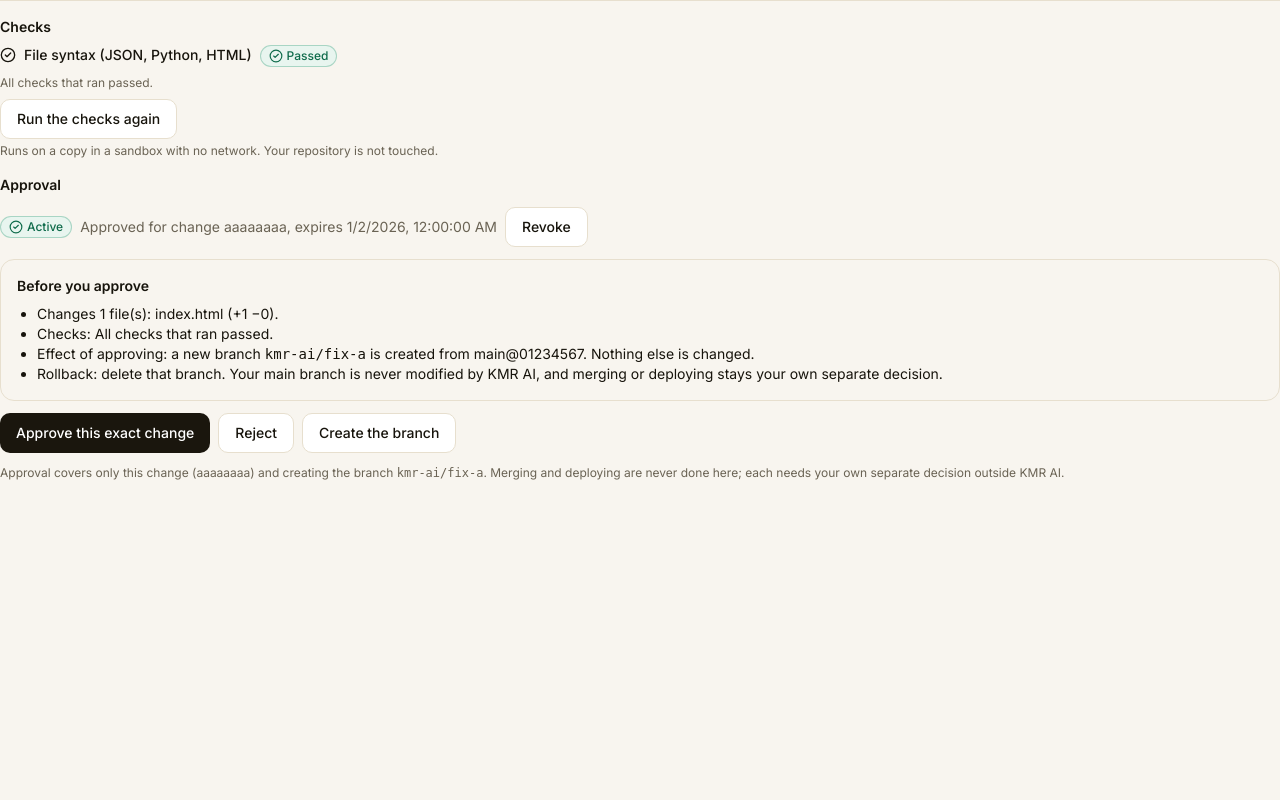
RepairActions › asks for confirmation before creating the branch, and says nothing is merged
Step 1. Click the button "Create the branch" → coordinates (379, 433), box [302, 413, 456, 453]
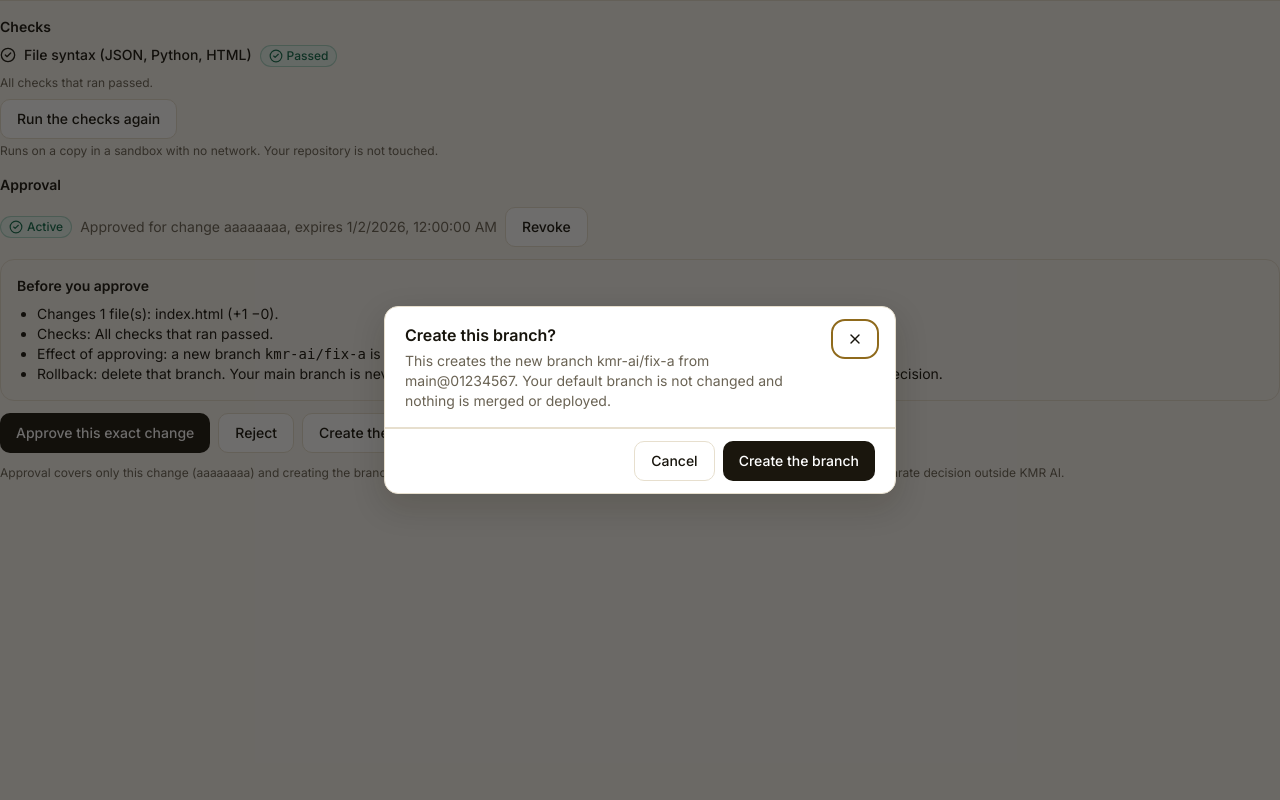
Expected: the dialog "Create this branch?" shows "nothing is merged or deployed", [405, 352, 783, 409]
